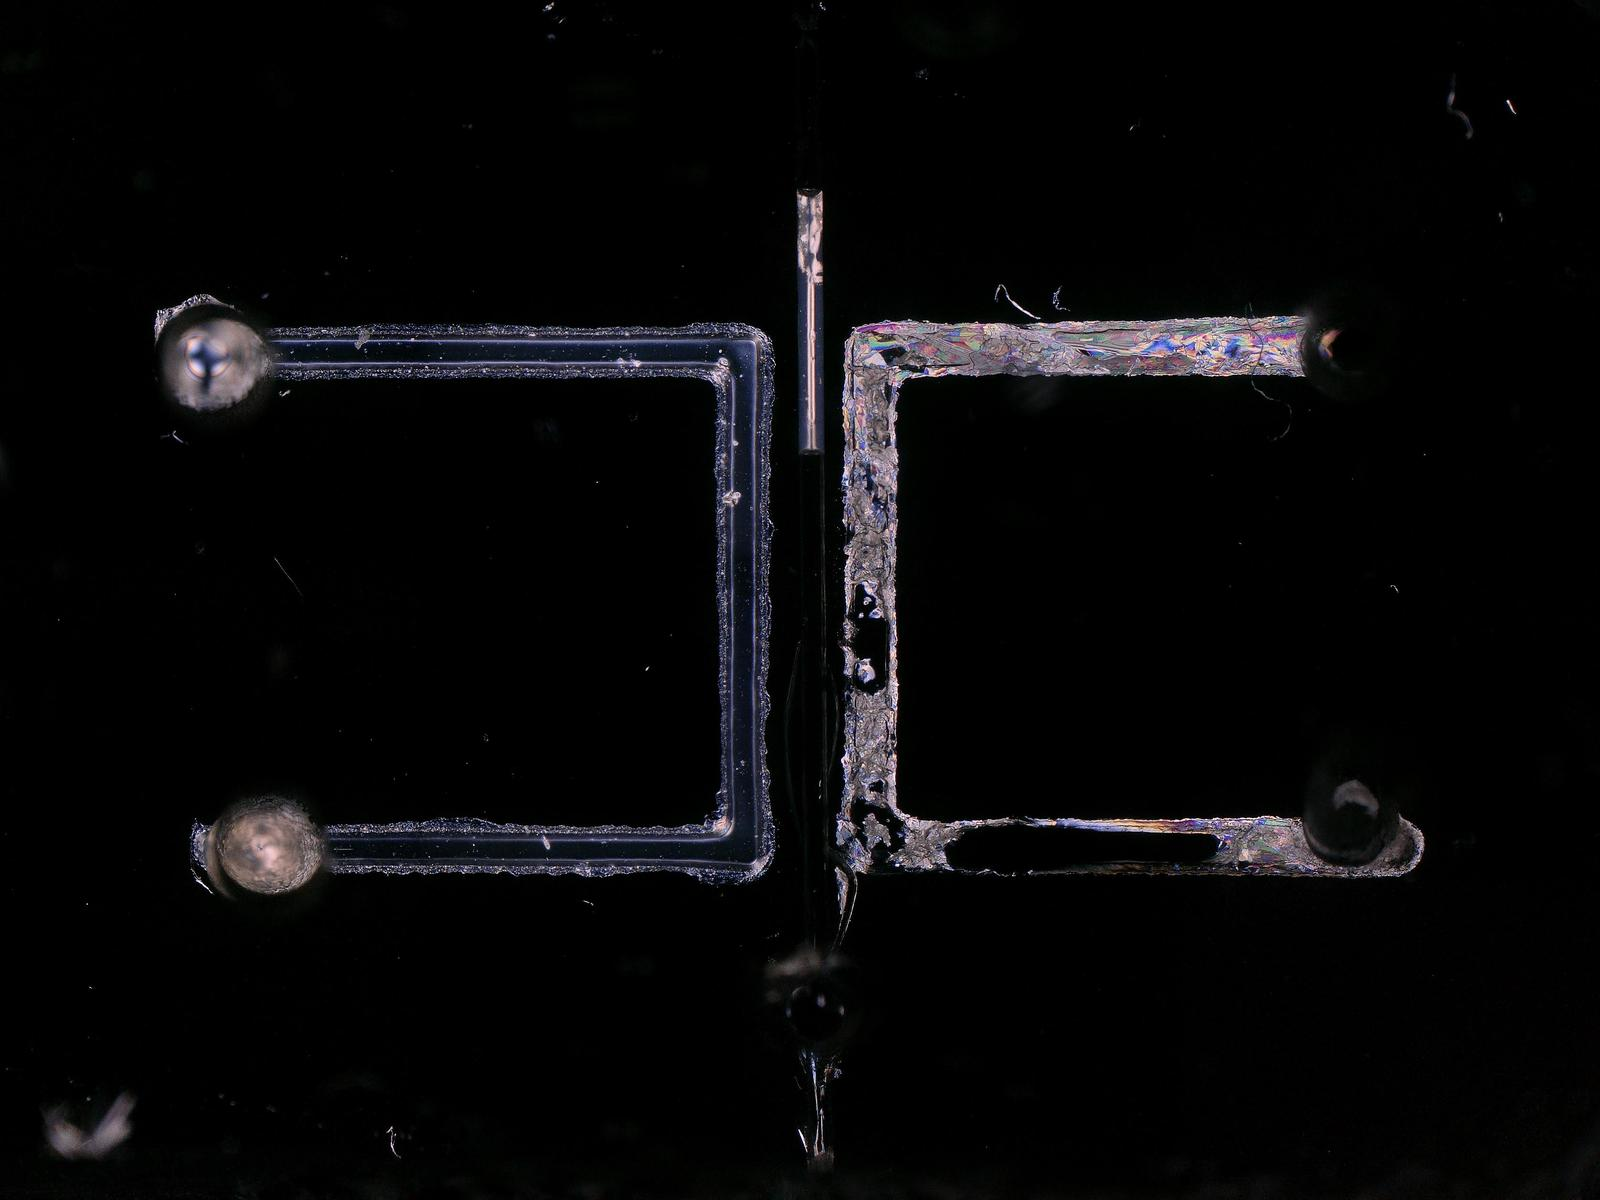sediment: (842, 363, 896, 453), (844, 487, 892, 584), (847, 686, 896, 776), (901, 821, 955, 868), (1213, 823, 1277, 861), (859, 812, 891, 845)
